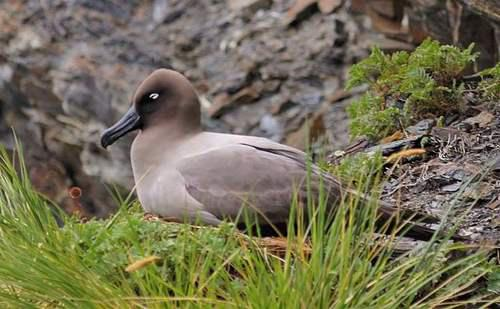003.Sooty_Albatross: (101, 67, 469, 244)
